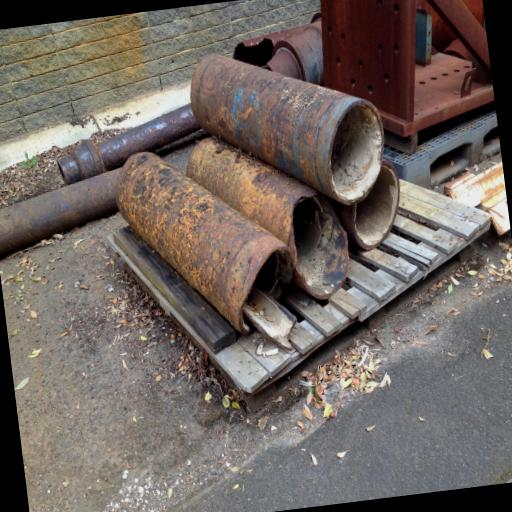segmentation: (117, 153, 288, 331), (191, 55, 384, 205), (187, 136, 318, 267), (321, 0, 416, 127), (59, 102, 200, 184), (0, 168, 120, 255), (380, 53, 495, 136), (293, 193, 349, 299), (427, 0, 492, 77), (444, 161, 506, 206)
